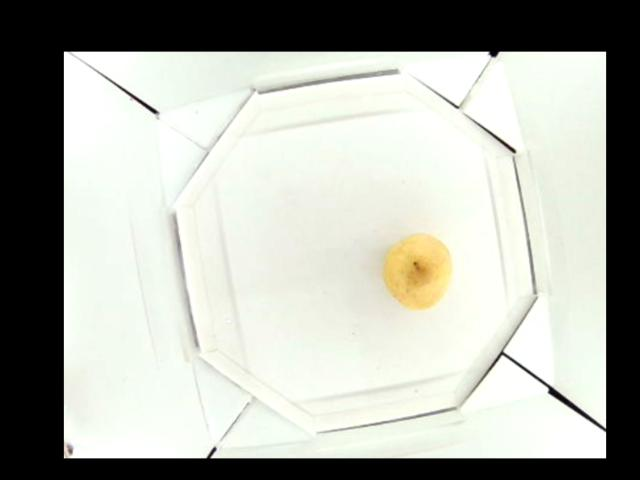Potato: (386, 235, 457, 310)
